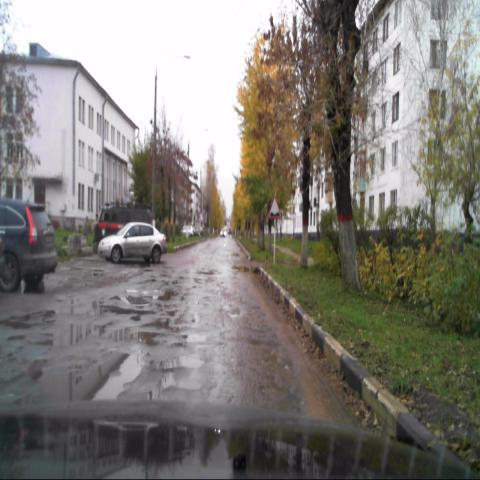1_16: (268, 196, 282, 219)
